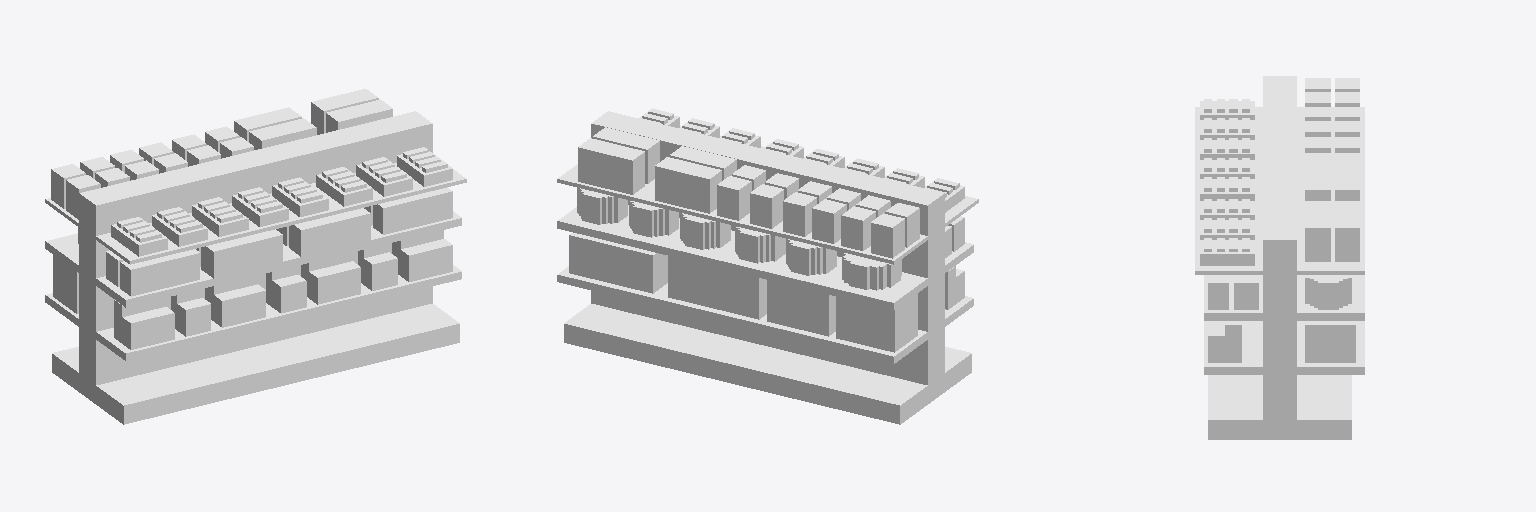
File: estante1.obj
The picture shows the model from 3 angles: view 1: azimuth 30°, elevation 25°; view 2: azimuth 150°, elevation 25°; view 3: azimuth 270°, elevation 25°; orthographic projection.
Visible parts, largest first — view 1: object 1; view 2: object 1; view 3: object 1.
Boxes of the visible parts, x1,y1,x2,y2 form: object 1: [45, 89, 466, 424]; object 1: [557, 108, 978, 424]; object 1: [1195, 76, 1364, 439].
Bounding box in the file's own units: 9.2 × 5.3 × 4.